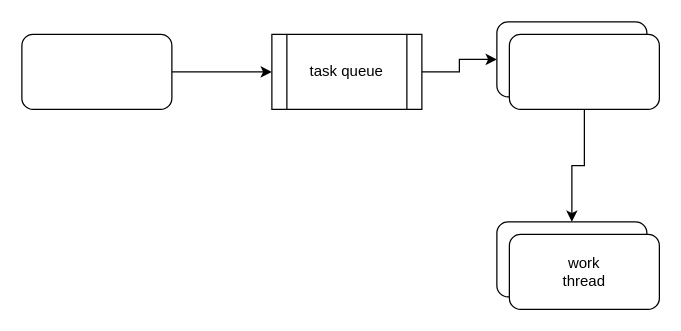
Some shapes in this 681 by 331 pixel diagram are drawn without their labels. Each missing label, with the box of its shape:
manage thread: (508, 33, 659, 109)
selector: (21, 33, 172, 109)
